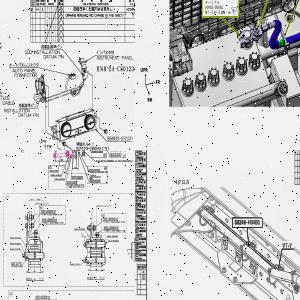PartNumber: (234, 218, 260, 226), (107, 135, 133, 141), (204, 4, 224, 10), (76, 146, 101, 150), (66, 180, 76, 182), (89, 181, 99, 183), (89, 179, 99, 181), (89, 176, 99, 178), (92, 151, 102, 153), (69, 264, 79, 266), (49, 170, 58, 172), (50, 174, 59, 176), (72, 176, 81, 178), (89, 169, 98, 171), (110, 154, 119, 156), (110, 153, 119, 155), (103, 219, 112, 221), (103, 217, 112, 219), (104, 226, 113, 228), (107, 235, 116, 237), (108, 240, 117, 242), (74, 228, 83, 230), (40, 212, 49, 214), (42, 220, 51, 222), (42, 218, 51, 220), (10, 237, 19, 239), (10, 242, 19, 244), (10, 248, 19, 250), (11, 264, 20, 266), (11, 262, 20, 264), (35, 297, 44, 299), (36, 296, 44, 298), (54, 179, 63, 180), (72, 178, 81, 179), (103, 228, 112, 229), (40, 210, 49, 211), (67, 183, 75, 184)
